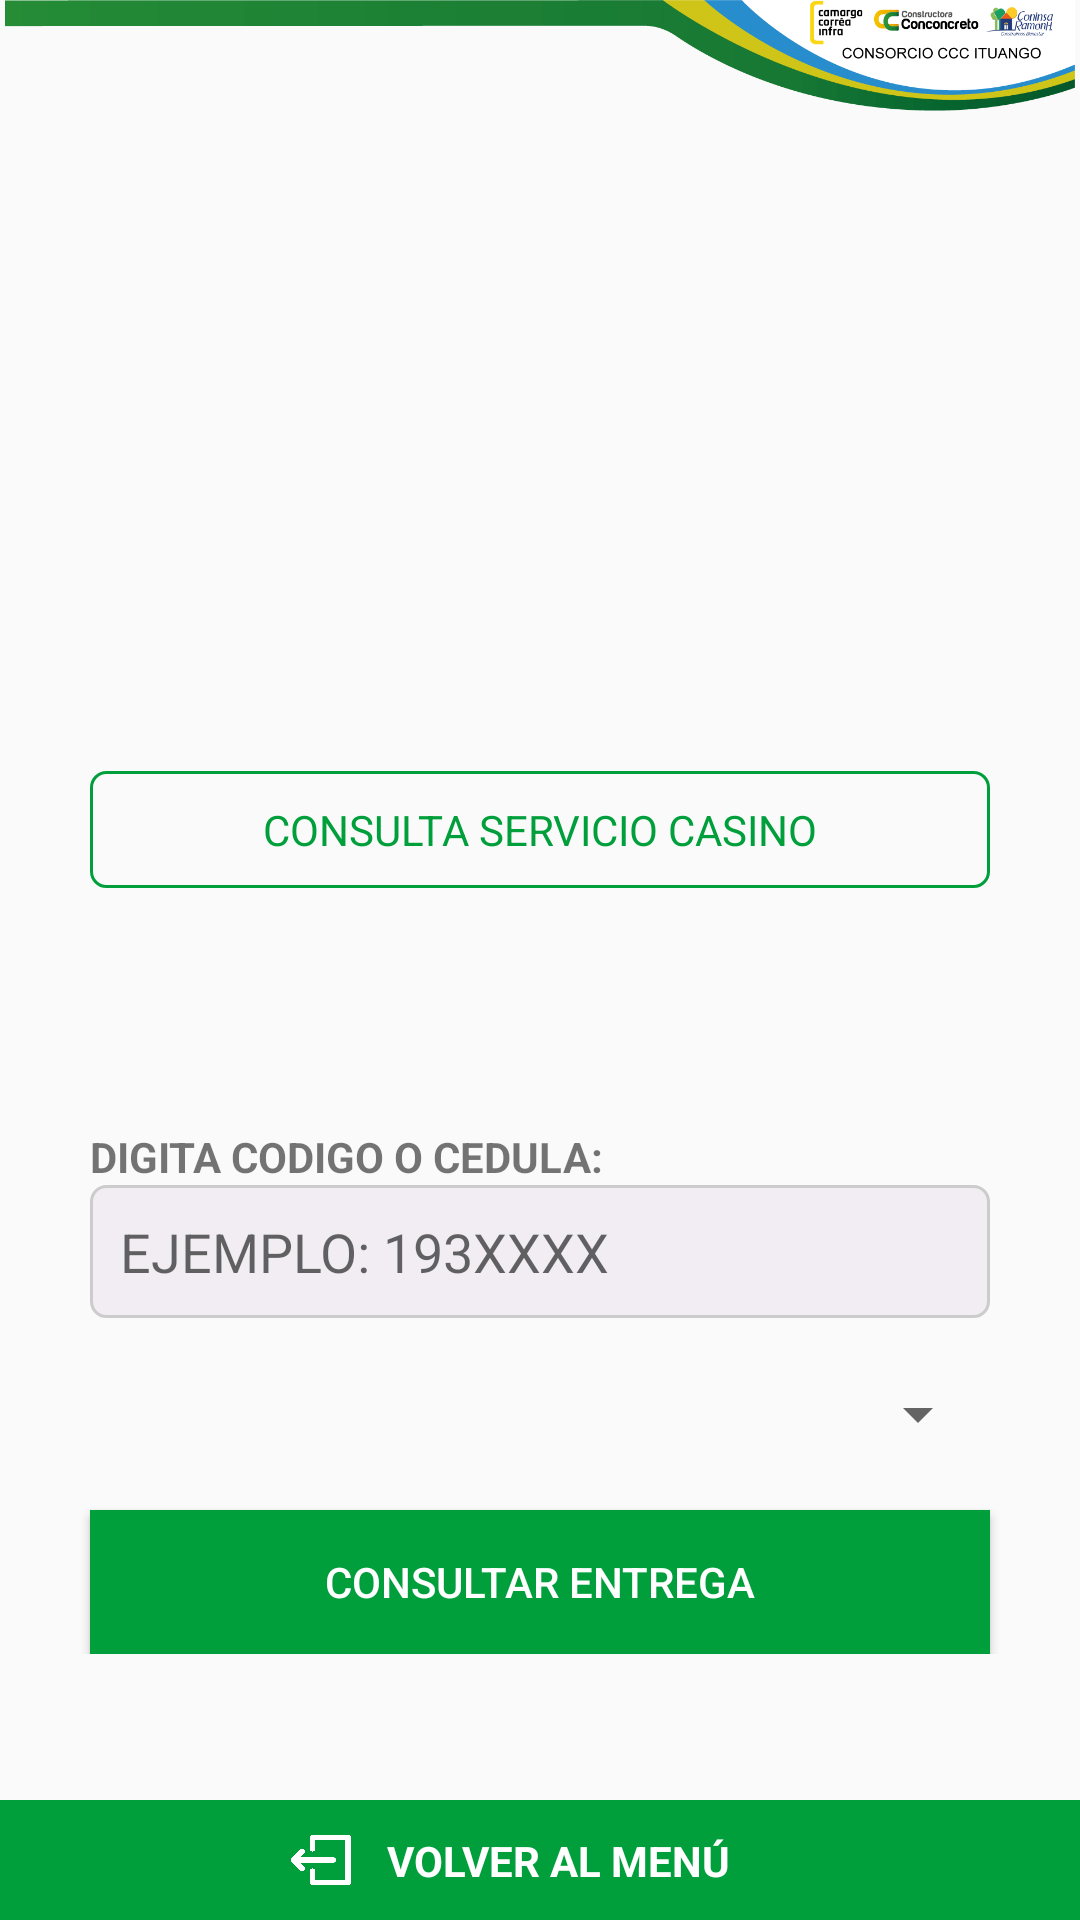

Point at icon controls on the screen. Image size 1080px x 1920px, points as point (x, y).
salir: point (321, 1860)
